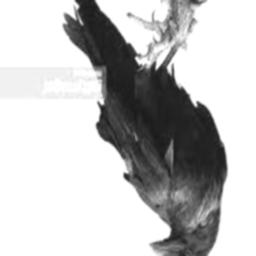Crow: (62, 0, 229, 256)
